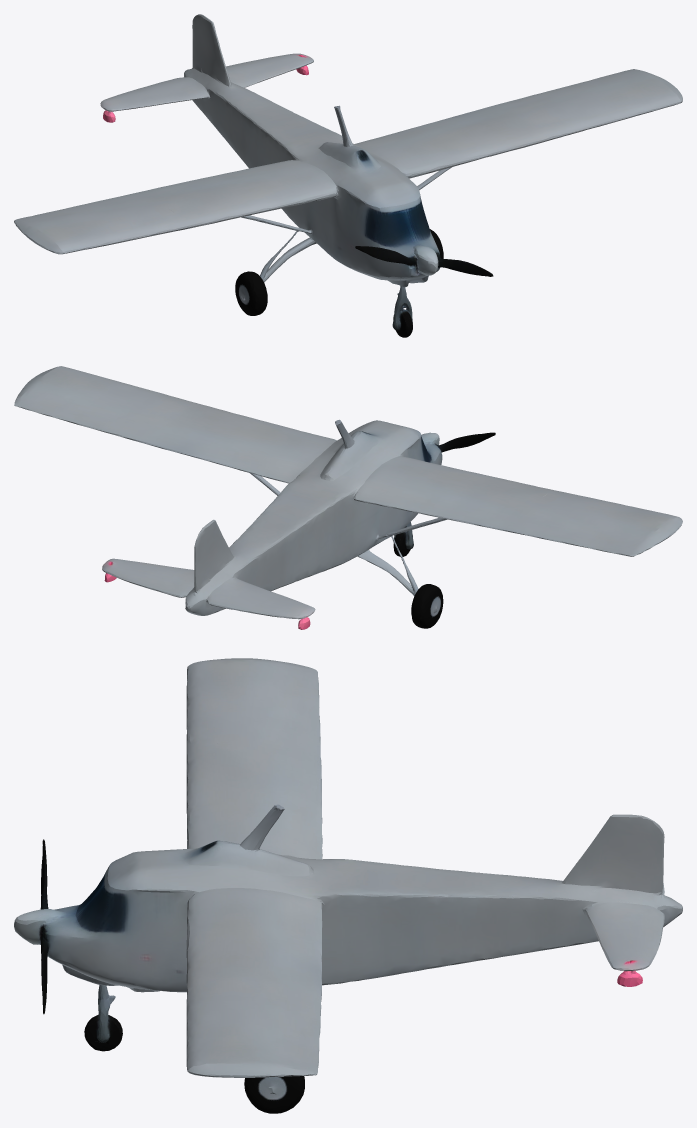
3 views of the same model, one above another, from view 1: azimuth 30°, elevation 25°; view 2: azimuth 150°, elevation 25°; view 3: azimuth 270°, elevation 25° (orthographic). The views are drawn at different scales.
Parts seen in each view (by area): view 1: model; view 2: model; view 3: model.
Boxes of the visible parts, x1,y1,x2,y2 form: model: (14,14,682,337); model: (14,366,682,629); model: (14,658,682,1113).
Bounding box in the file's own units: 1.9 × 0.5283 × 1.29.
1 material, 1 textured.
